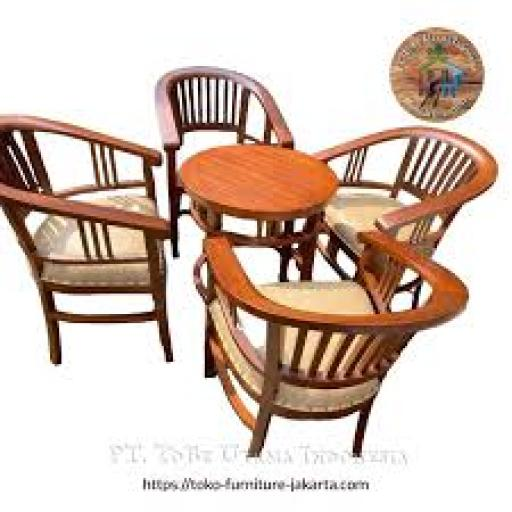kursi: (200, 233, 472, 463), (0, 104, 178, 372), (311, 122, 498, 310), (153, 64, 297, 260)
